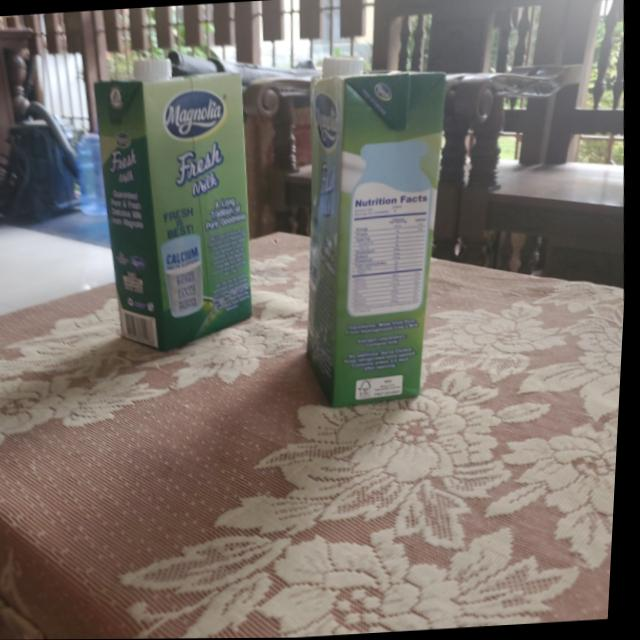milk: (294, 49, 466, 414), (80, 51, 267, 354)
